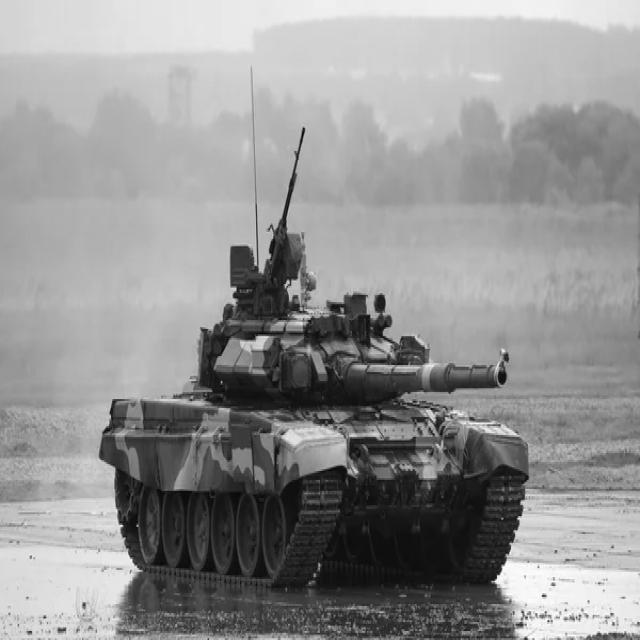Tank: (101, 163, 536, 590)
